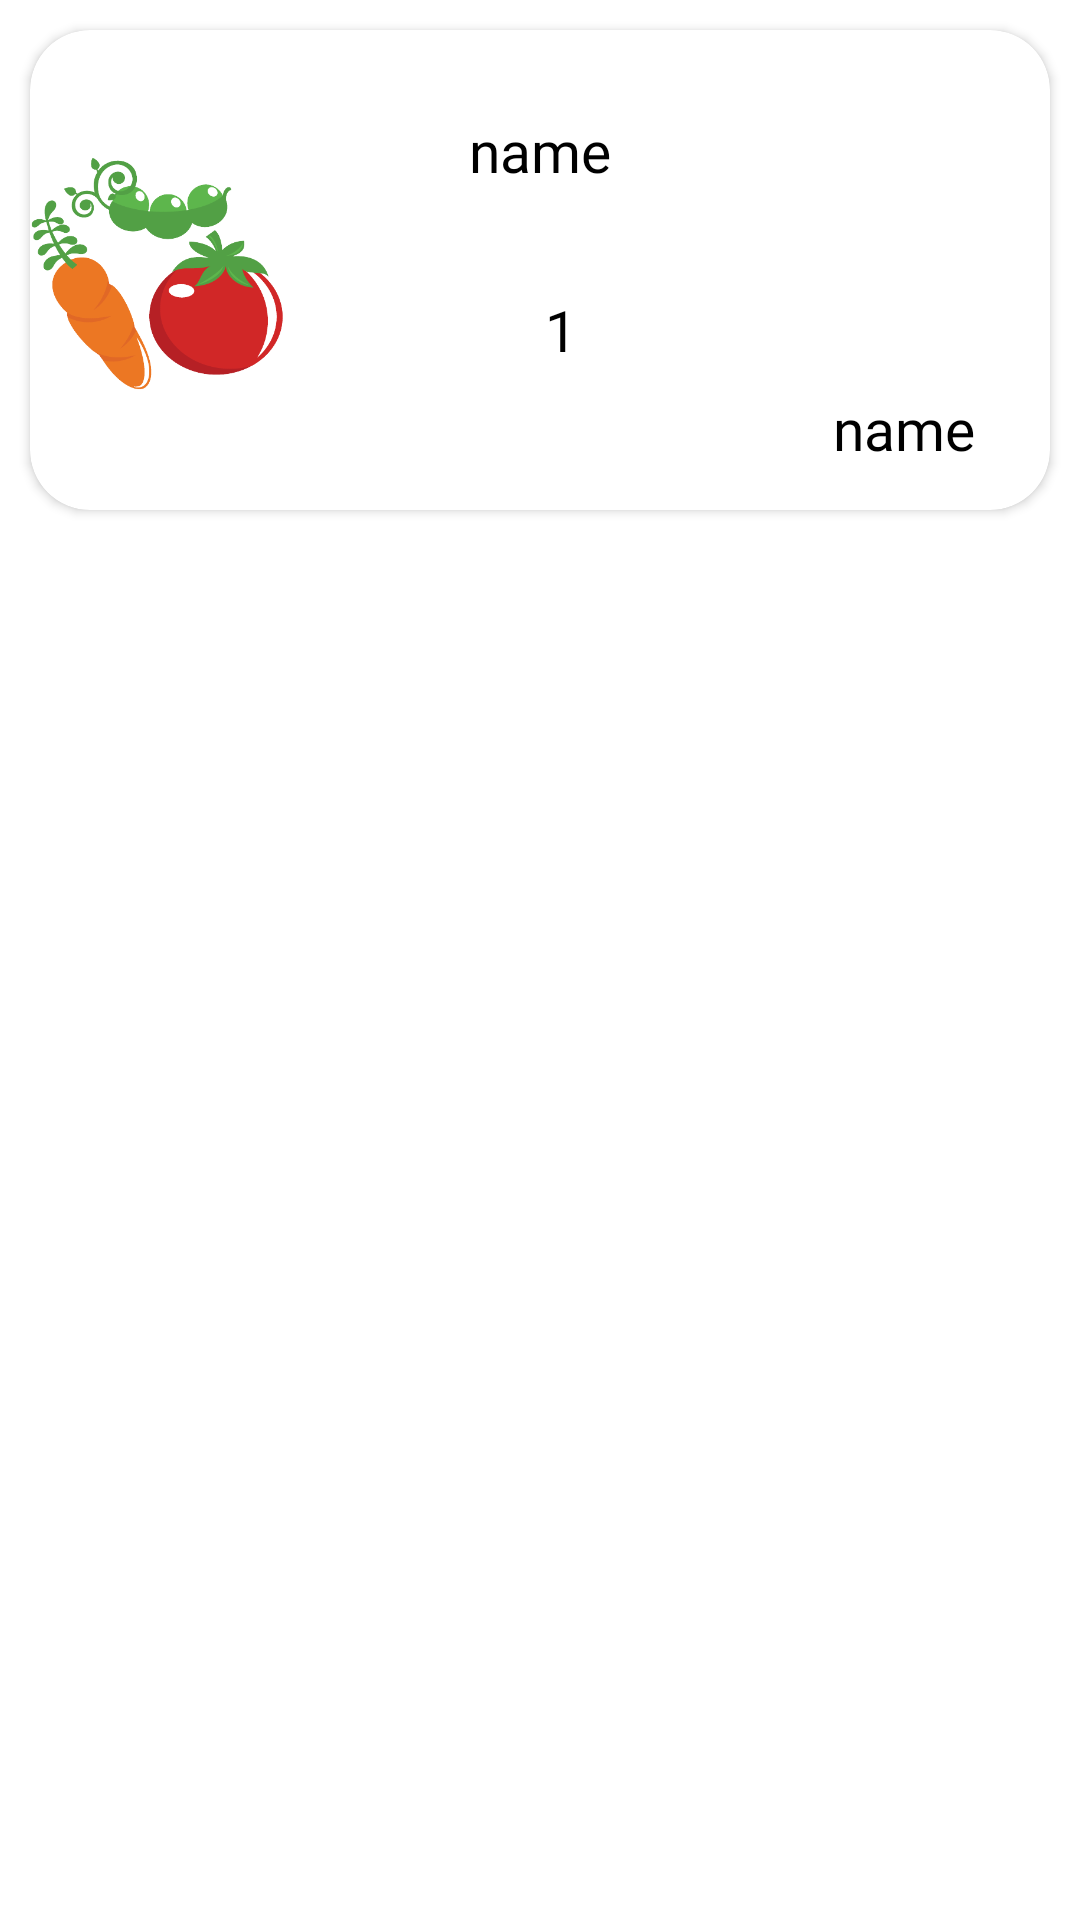

Named icons in this screenshot (1080*1920) and their bounding boxes, bbox(x1, y1, x2, y2):
vegetaaa: bbox(32, 40, 283, 389)
